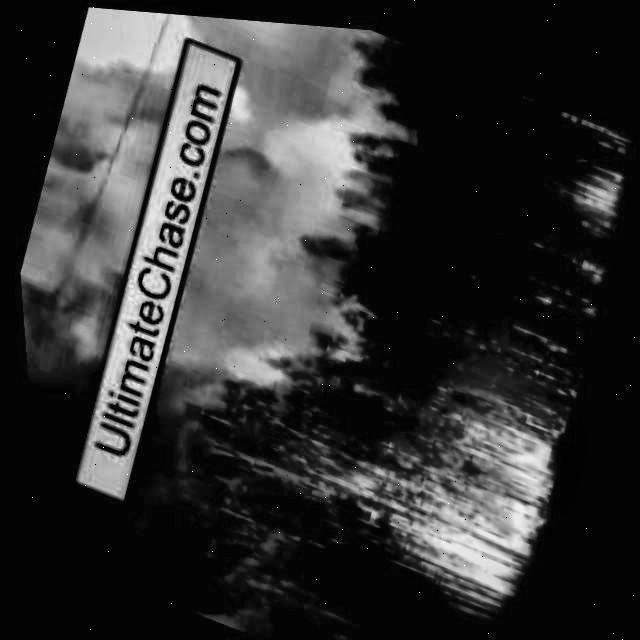Fire: (298, 347, 567, 611), (454, 252, 604, 402), (566, 151, 624, 221), (60, 299, 109, 367), (568, 103, 629, 145), (577, 240, 607, 277)
Smoke: (65, 4, 440, 640), (1, 22, 200, 565)
